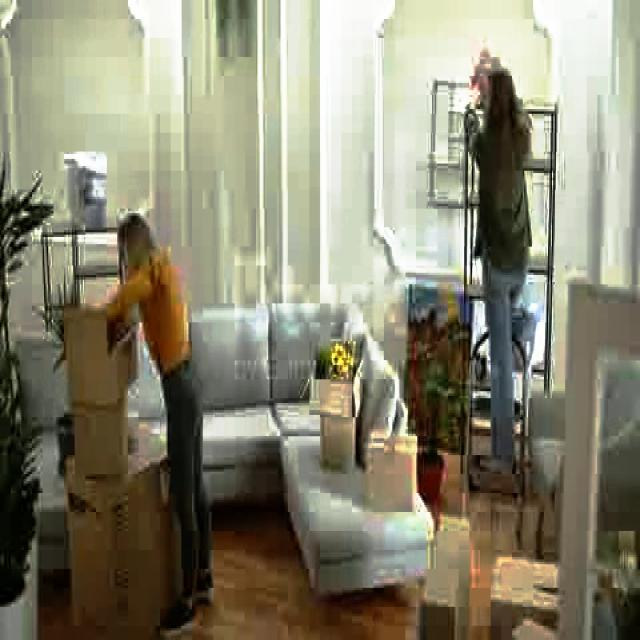Box: (64, 476, 161, 621), (484, 548, 565, 635), (67, 324, 133, 408), (424, 512, 471, 623), (372, 429, 428, 517), (316, 379, 365, 465), (68, 415, 123, 479)
